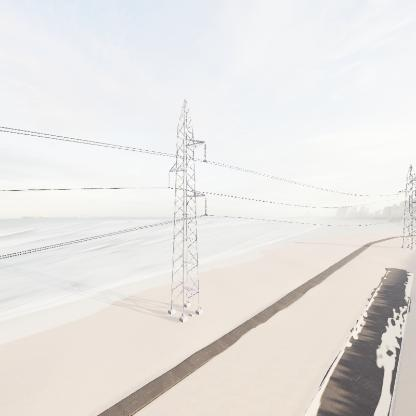tower: (163, 95, 212, 327)
